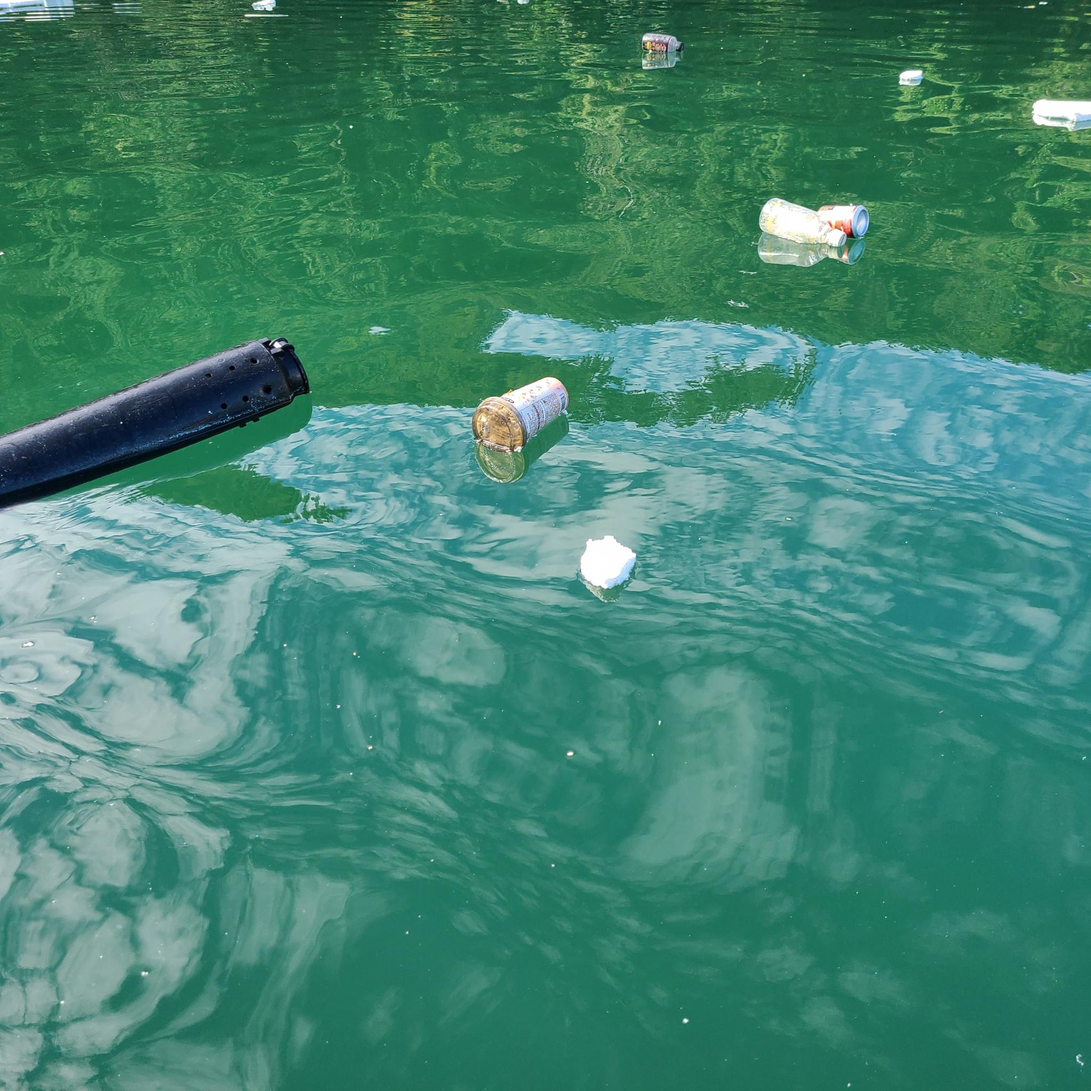sampah_terapung: (1, 337, 311, 508), (473, 378, 569, 454), (759, 198, 848, 247), (581, 536, 637, 590), (818, 205, 869, 239), (1033, 100, 1091, 122), (642, 34, 685, 53), (1, 1, 75, 8), (900, 70, 923, 80)
